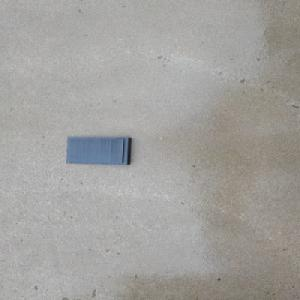PlasticPart: (64, 136, 134, 165)
